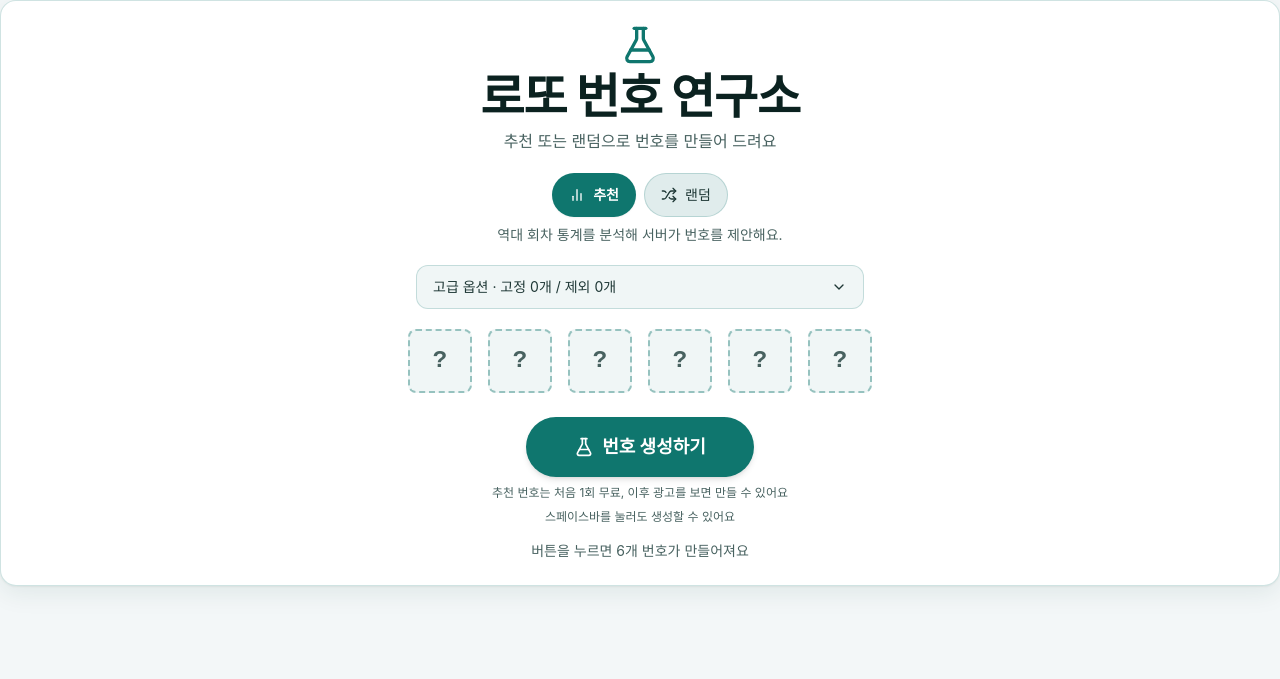
it: Generator › 추천 응답 필드가 비정상이어도 크래시하지 않고 결과를 보여 준다
Click the button "번호 생성하기" at (640, 447), box top-left (526, 417), bottom-right (754, 477)
Wait 5000 ms
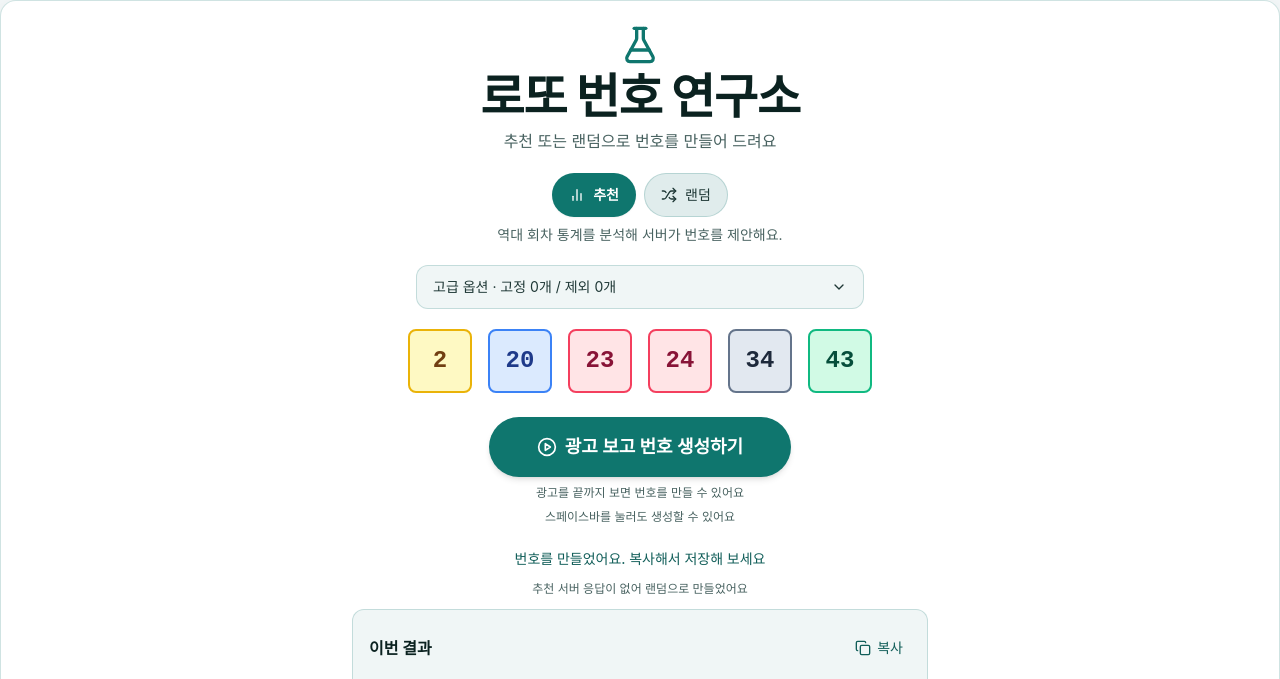
Check: the text "번호를 만들었어요" is shown, box top-left (515, 550), bottom-right (766, 567)
